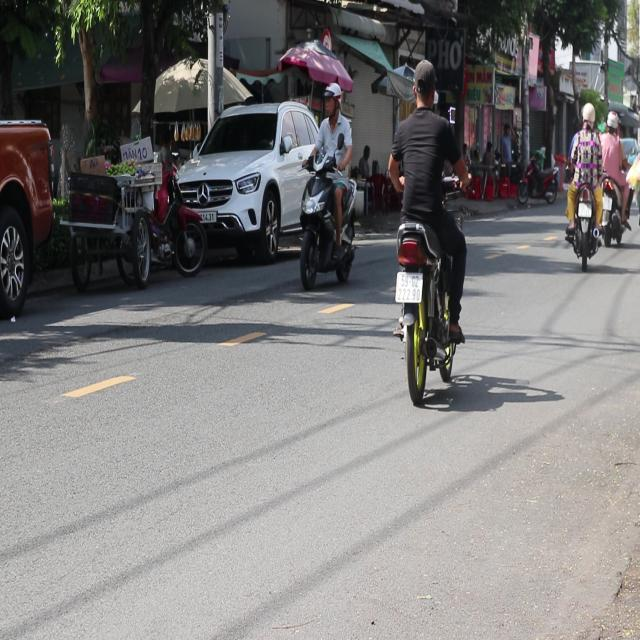helmet: (322, 82, 342, 121), (580, 102, 595, 130)
licenseplate: (386, 56, 471, 401), (296, 80, 359, 289), (563, 100, 601, 268)
motorcyclist: (410, 58, 438, 110)
nohelmet: (395, 272, 422, 302), (578, 203, 591, 216)
